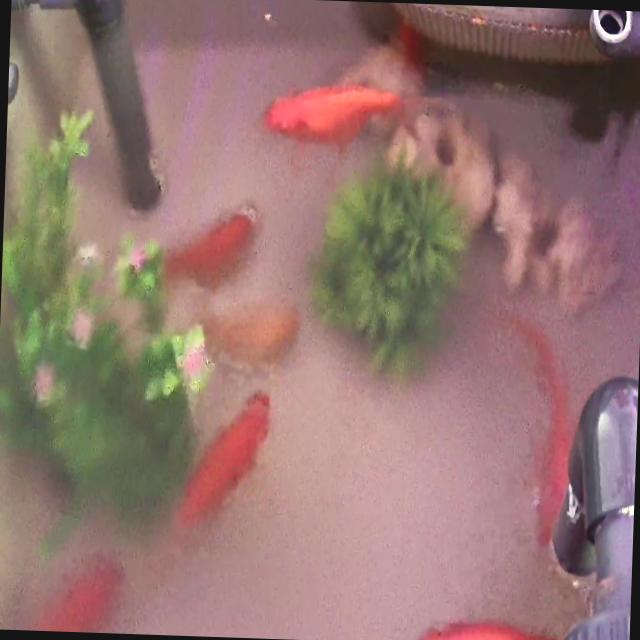fish: (172, 386, 272, 536), (503, 314, 573, 504), (4, 550, 127, 634), (161, 200, 260, 290), (266, 80, 384, 148), (204, 301, 301, 369), (416, 617, 559, 640)
